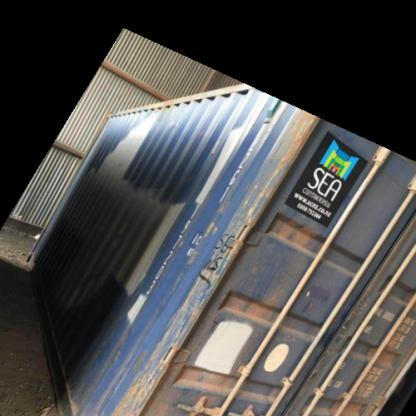Damage: (118, 347, 180, 394), (195, 227, 238, 286), (270, 209, 310, 253), (153, 114, 212, 138), (76, 258, 129, 282)
